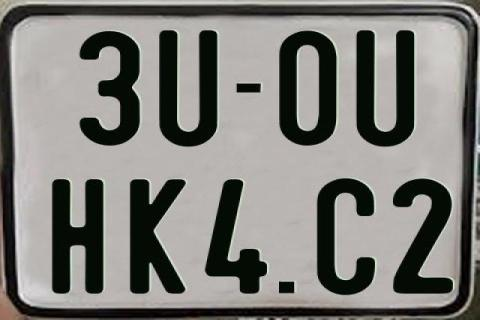0: (78, 31, 145, 147), (203, 178, 270, 294), (278, 30, 342, 148), (392, 176, 453, 295)
C: (317, 177, 375, 299)
H: (51, 177, 108, 296)
K: (127, 178, 189, 294)
U: (157, 28, 221, 146), (354, 29, 413, 149)
